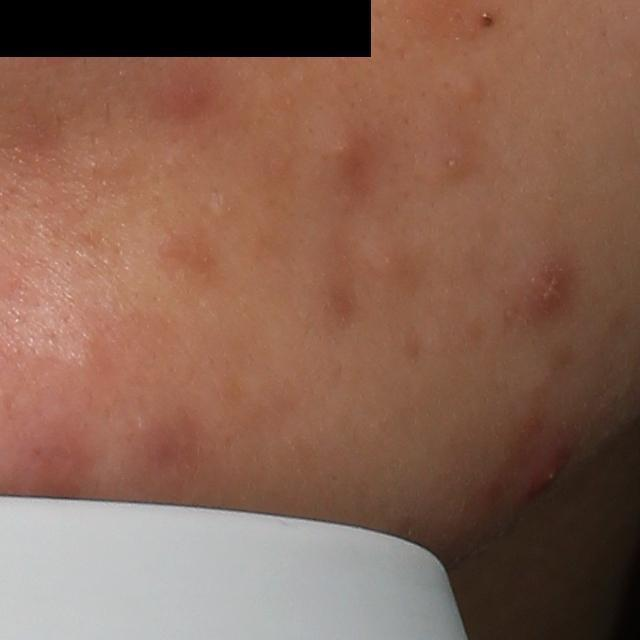comedo: (455, 72, 487, 105)
nevus: (481, 12, 495, 32)
papule: (415, 124, 490, 188), (522, 256, 577, 328), (319, 126, 369, 186), (522, 446, 564, 495)
